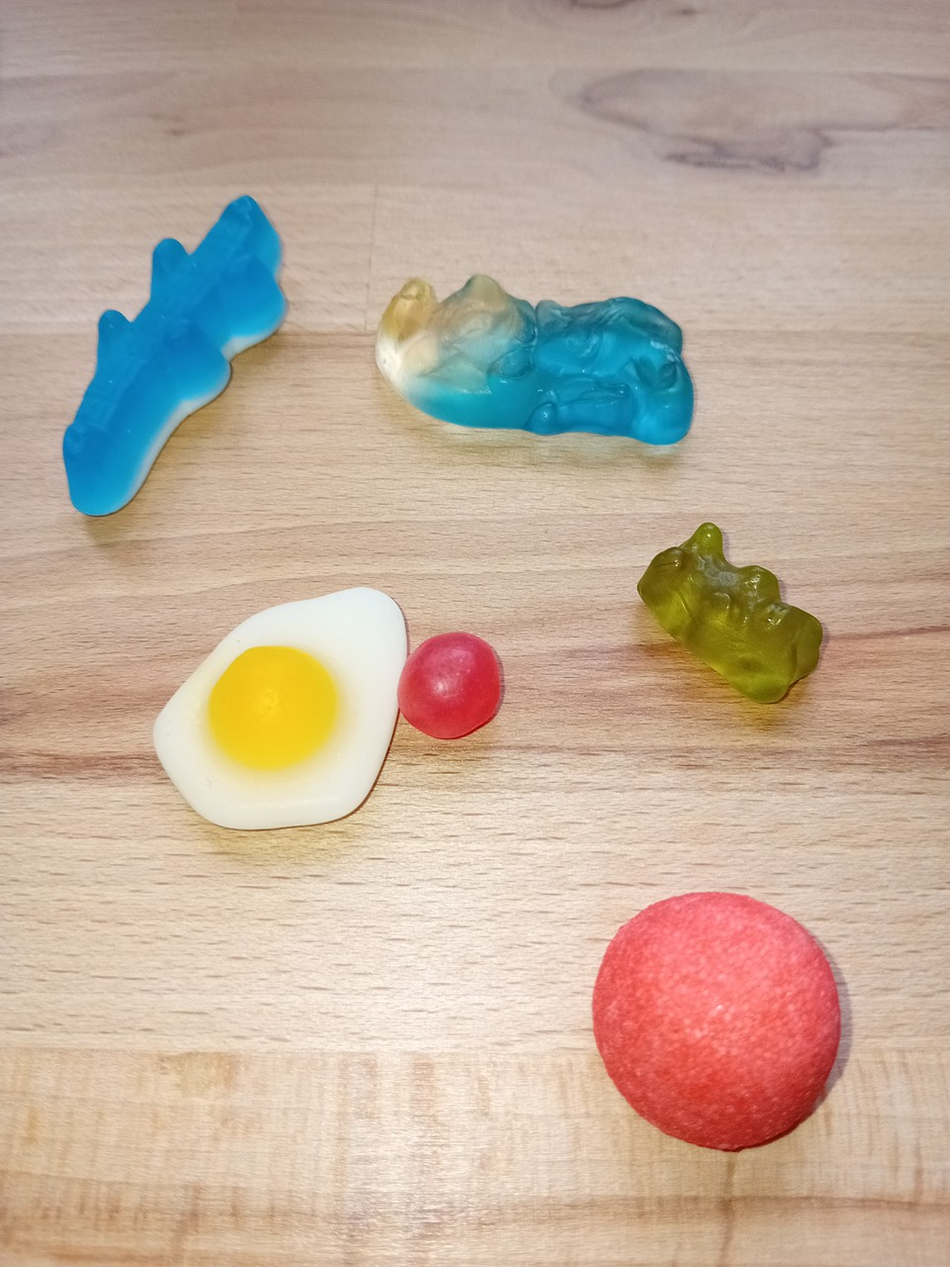crocodile_bleu: (52, 187, 293, 524)
dragibus_rouge: (394, 626, 507, 745)
oeuf_oeuf: (144, 571, 414, 839)
ourson_vert: (630, 517, 833, 713)
schtroumpf_bleu-blanc: (367, 265, 702, 452)
tagada_fraise: (583, 885, 853, 1157)
